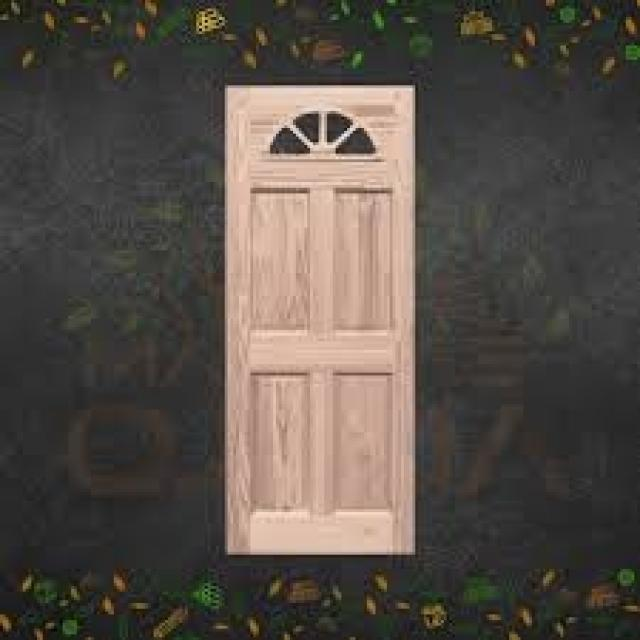door: (222, 82, 418, 558)
